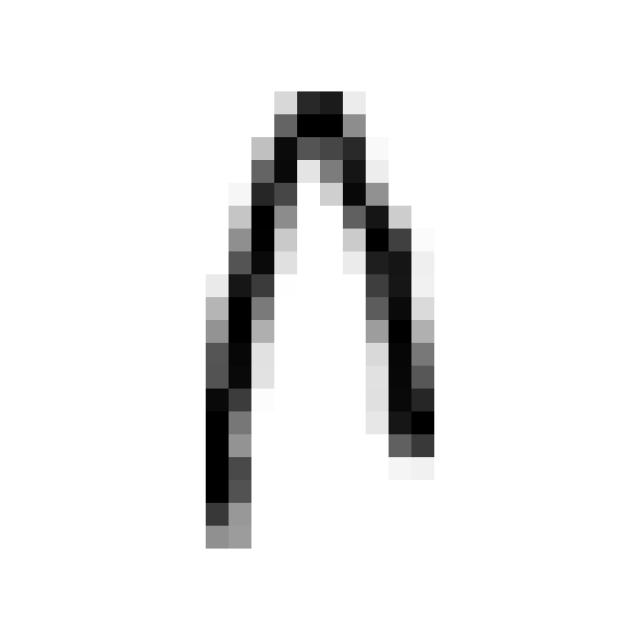8 -eight-: (181, 66, 456, 553)
